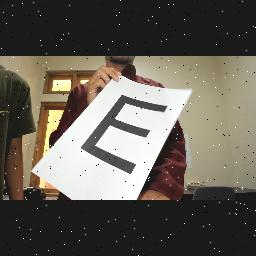e: (78, 90, 170, 180)
